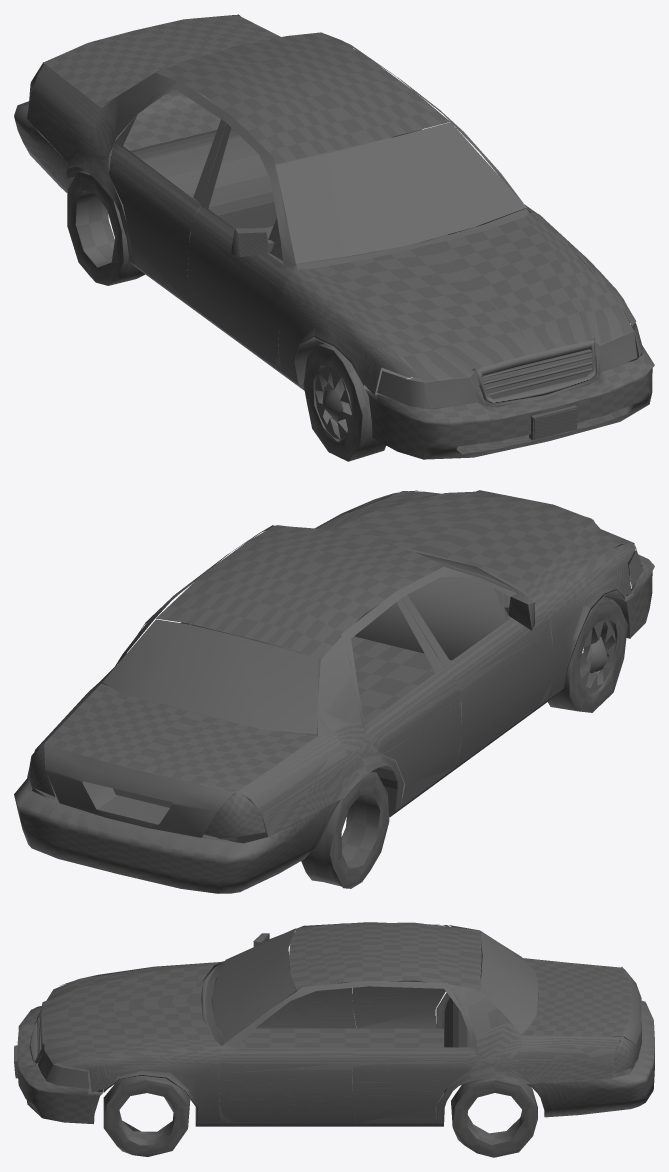
File: vehic.fbx
The picture shows the model from 3 angles, top to bottom: view 1: azimuth 30°, elevation 25°; view 2: azimuth 150°, elevation 25°; view 3: azimuth 270°, elevation 25°; orthographic projection. The views are drawn at different scales.
Visible parts, largest first — view 1: vehic; view 2: vehic; view 3: vehic.
Boxes of the visible parts, x1,y1,x2,y2 form: vehic: (14,14,654,461); vehic: (14,490,654,893); vehic: (14,922,654,1157).
Bounding box in the file's own units: 208 × 540 × 153.
1 material, 1 textured.
